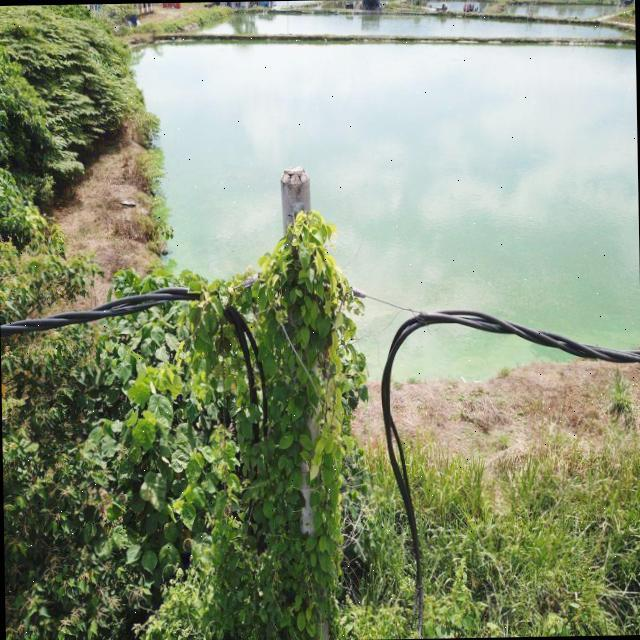critical vegetation: (173, 202, 380, 572)
